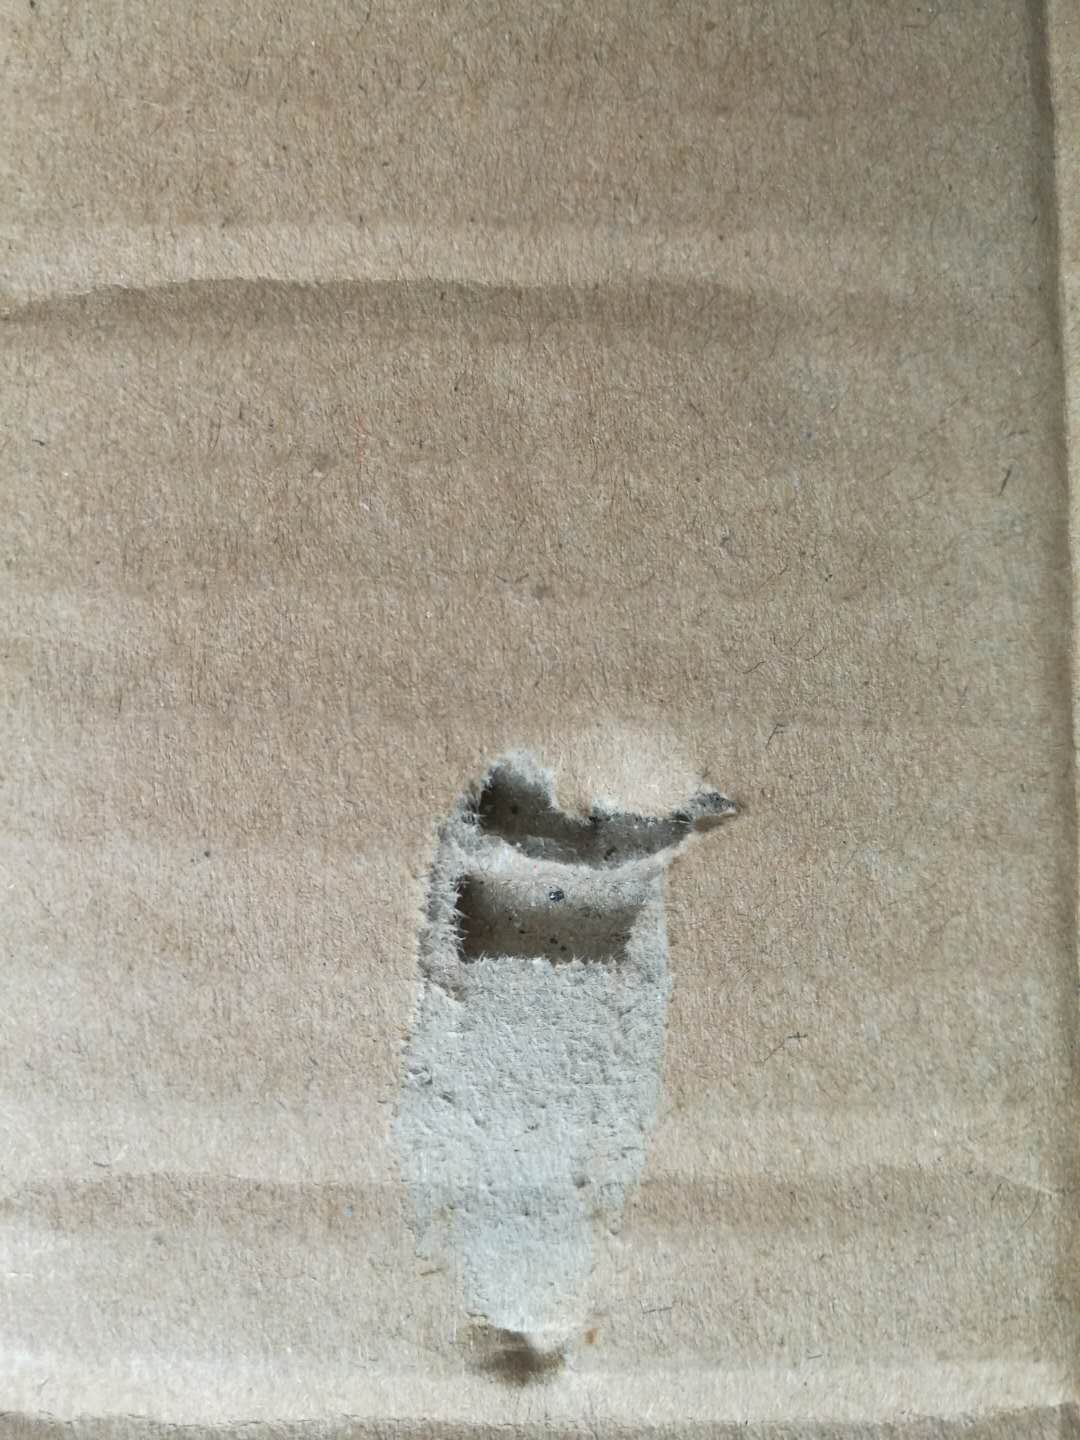defect: (348, 696, 782, 1415), (2, 203, 839, 409), (3, 1365, 1080, 1439), (988, 2, 1080, 818)
